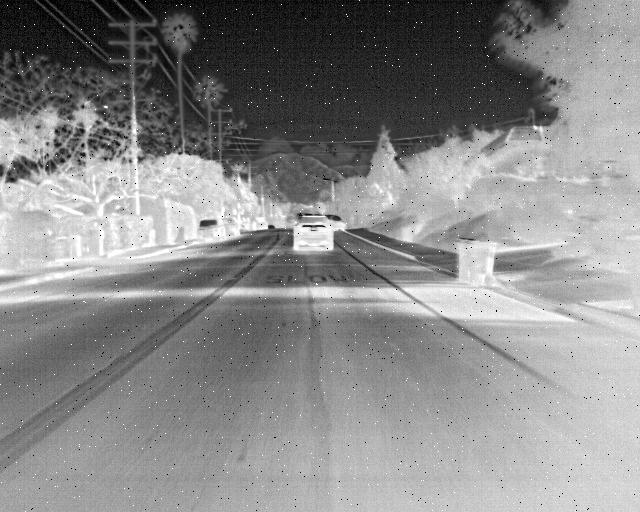car: (285, 210, 345, 254), (201, 216, 227, 248), (218, 212, 251, 237)
trash: (443, 237, 511, 295)
